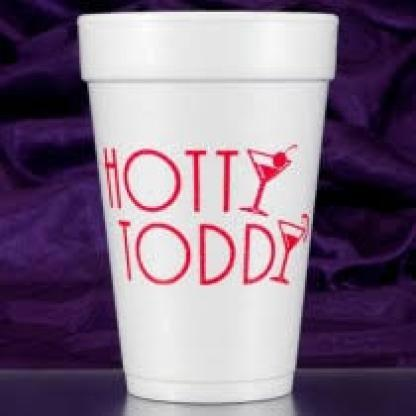trash: (78, 12, 337, 402)
